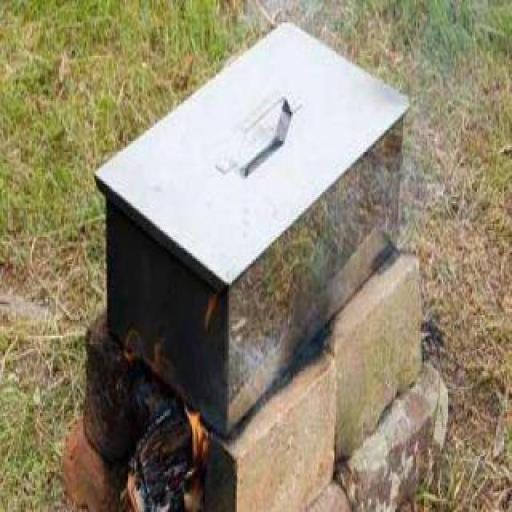smoke: (108, 323, 176, 391), (171, 413, 213, 510)
